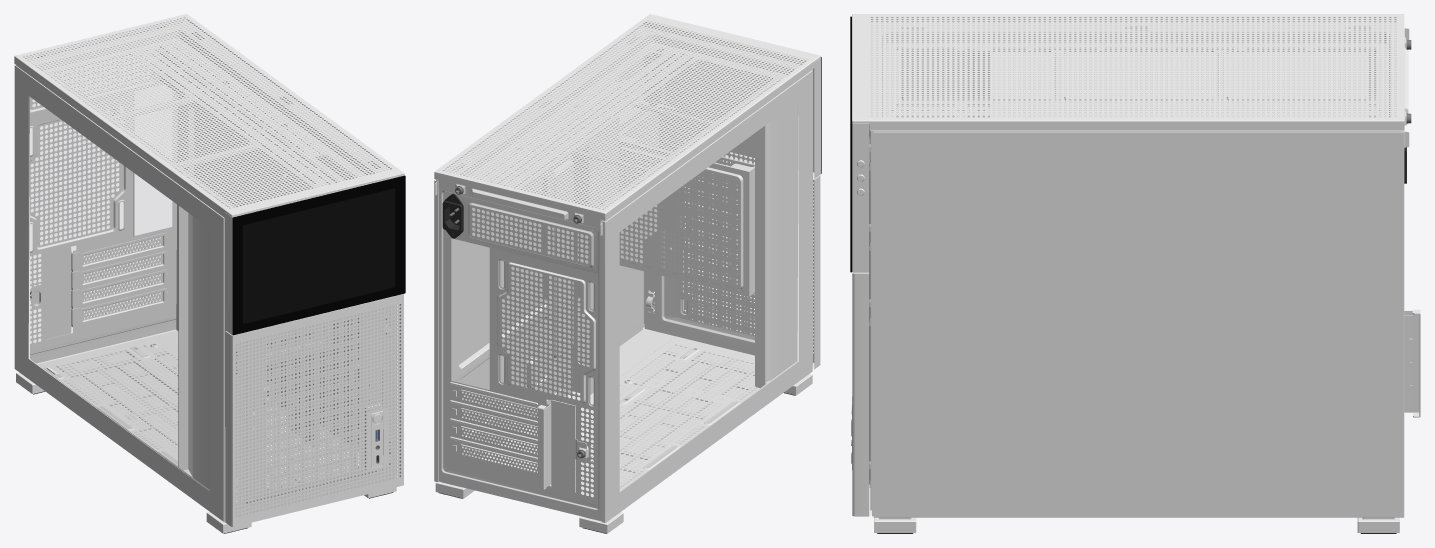
The model's file is case_JONSBO_D31_upd04.glb.
3 views of the same model, side by side, from view 1: azimuth 30°, elevation 25°; view 2: azimuth 150°, elevation 25°; view 3: azimuth 270°, elevation 25° (orthographic). The views are drawn at different scales.
Visible parts, largest first — view 1: left_panel_glass, case_body_frame, top_panel_mesh, front_panel_mesh, front_panel_2_screen, left_panel_frame, side_cover, top_panel_frame, front_panel_frame, bottom_dust_filter, right_panel, pcie_shield_cover (+8 smaller); view 2: case_body_frame, left_panel_glass, top_panel_mesh, left_panel_frame, psu_bracket, side_cover, right_panel, top_panel_frame, bottom_dust_filter, pcie_shield_cover, front_panel_mesh, bottom_dust_frame (+8 smaller); view 3: right_panel, top_panel_mesh, top_panel_frame, case_body_frame, front_panel_frame, front_panel_2_body, side_cover, feet_plastic, pcie_shield_cover, left_panel_frame, front_panel_2_screen.
Part boxes in pixels (box(x1,y1,x2,y2)): left_panel_glass: box(30, 98, 208, 488); case_body_frame: box(16, 23, 396, 521); top_panel_mesh: box(22, 16, 393, 208); front_panel_mesh: box(235, 302, 401, 518); front_panel_2_screen: box(232, 175, 405, 335); left_panel_frame: box(14, 64, 225, 521); side_cover: box(178, 205, 209, 489); top_panel_frame: box(14, 14, 404, 217); front_panel_frame: box(225, 294, 403, 526); bottom_dust_filter: box(69, 344, 333, 497); right_panel: box(195, 64, 396, 477); pcie_shield_cover: box(30, 247, 71, 339); case_body_frame: box(436, 27, 812, 521); left_panel_glass: box(620, 103, 797, 490); top_panel_mesh: box(441, 20, 809, 210); left_panel_frame: box(600, 70, 812, 522); psu_bracket: box(619, 104, 754, 296); side_cover: box(755, 102, 797, 388); right_panel: box(434, 36, 642, 482); top_panel_frame: box(434, 14, 820, 226); bottom_dust_filter: box(516, 344, 754, 495); pcie_shield_cover: box(537, 400, 586, 492); front_panel_mesh: box(652, 159, 814, 354); bottom_dust_frame: box(521, 346, 756, 494); right_panel: box(873, 130, 1409, 517); top_panel_mesh: box(869, 16, 1397, 117); top_panel_frame: box(852, 14, 1408, 130); case_body_frame: box(869, 25, 1409, 516); front_panel_frame: box(852, 272, 869, 516); front_panel_2_body: box(852, 123, 869, 272); side_cover: box(896, 47, 989, 117); feet_plastic: box(874, 517, 1399, 532); pcie_shield_cover: box(1404, 309, 1420, 417); left_panel_frame: box(892, 26, 1409, 117); front_panel_2_screen: box(850, 16, 852, 272).
Bounding box in the file's own units: 0.2018 × 0.362 × 0.4521.
Materials: 15 (3 with a texture image).
